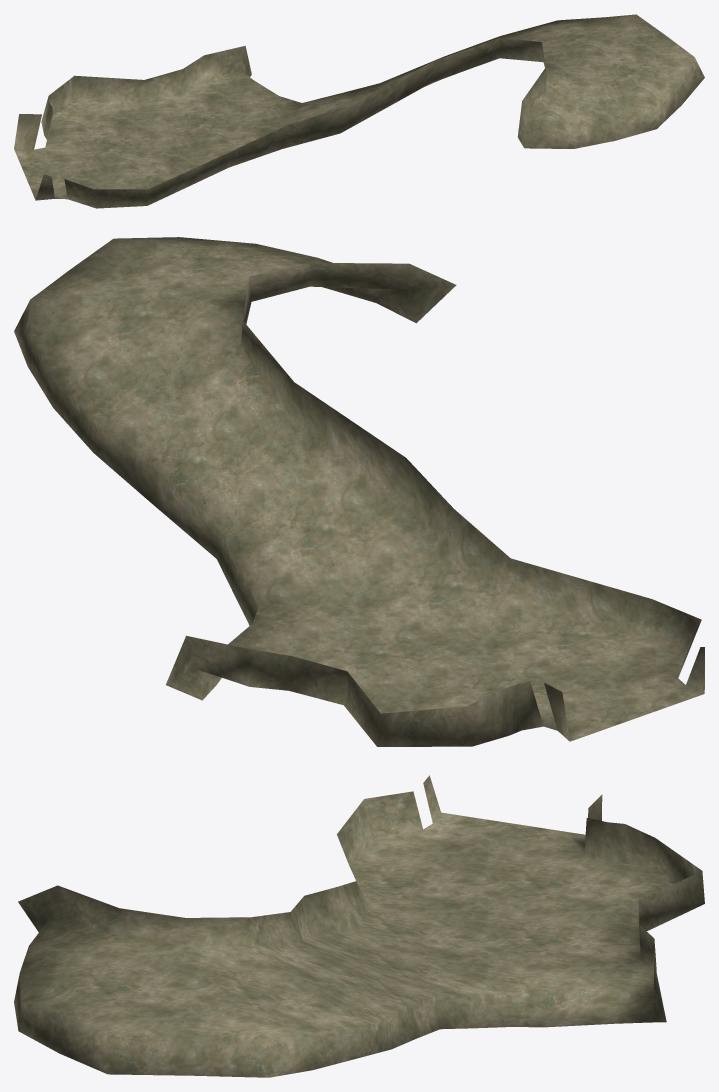
The model's file is EKH_THRONE_PS_TH_GROUND_009.fbx.
3 views of the same model, one above another, from view 1: azimuth 30°, elevation 25°; view 2: azimuth 150°, elevation 25°; view 3: azimuth 270°, elevation 25° (orthographic). The views are drawn at different scales.
Visible parts, largest first — view 1: EKH_THRONE_PS_TH_GROUND_009; view 2: EKH_THRONE_PS_TH_GROUND_009; view 3: EKH_THRONE_PS_TH_GROUND_009.
Boxes of the visible parts, x1=… form: EKH_THRONE_PS_TH_GROUND_009: x1=14, y1=14, x2=704, y2=208; EKH_THRONE_PS_TH_GROUND_009: x1=14, y1=237, x2=704, y2=746; EKH_THRONE_PS_TH_GROUND_009: x1=14, y1=775, x2=704, y2=1077.
Bounding box in the file's own units: 121453 × 30025 × 95984.
1 material, 1 textured.
